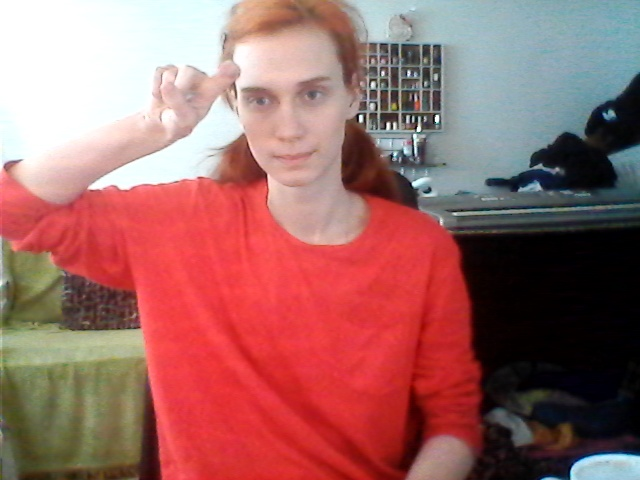chlapec: (146, 52, 275, 132)
